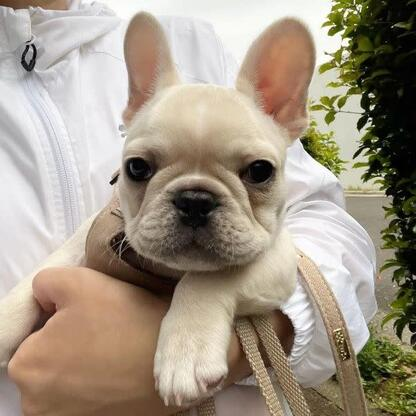bulldog: (106, 10, 321, 339)
